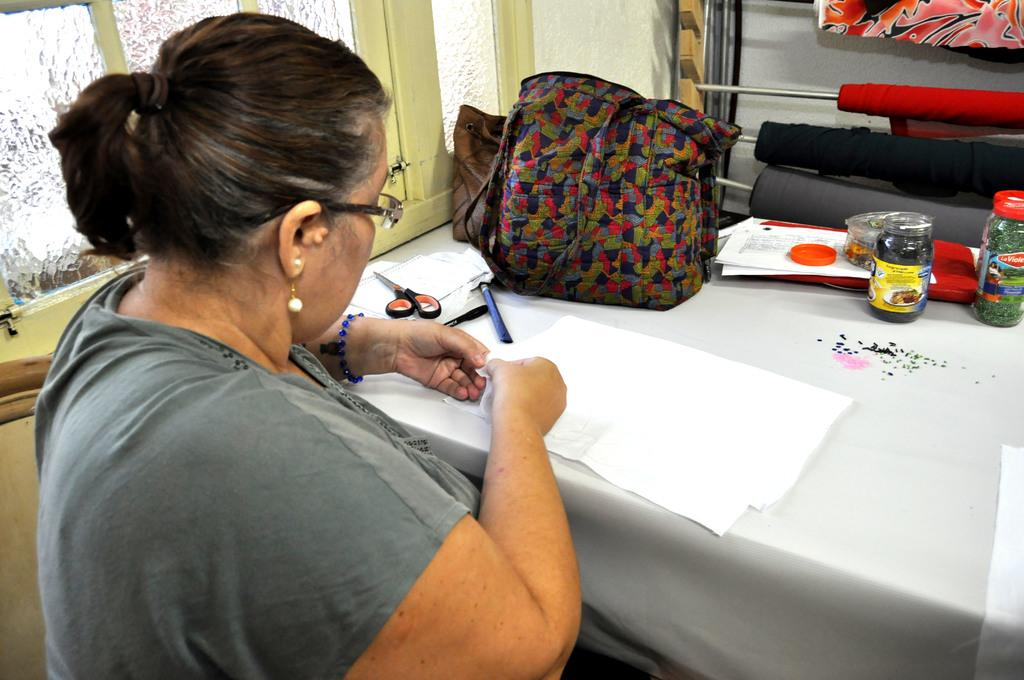Luggage-and-bags: (458, 69, 739, 306)
